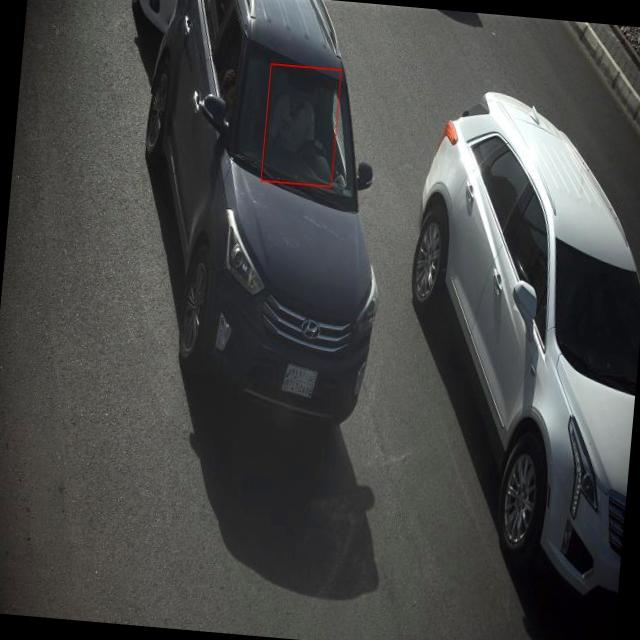person_without_seatbelt: (262, 60, 342, 182)
